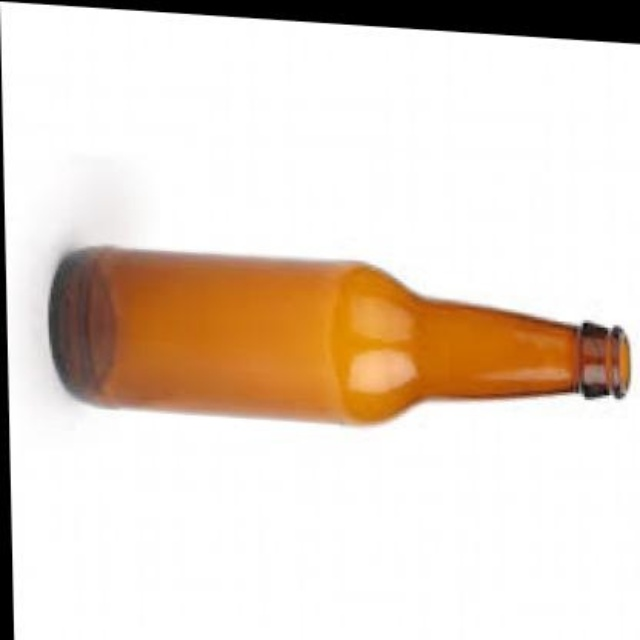trash: (49, 248, 629, 422)
